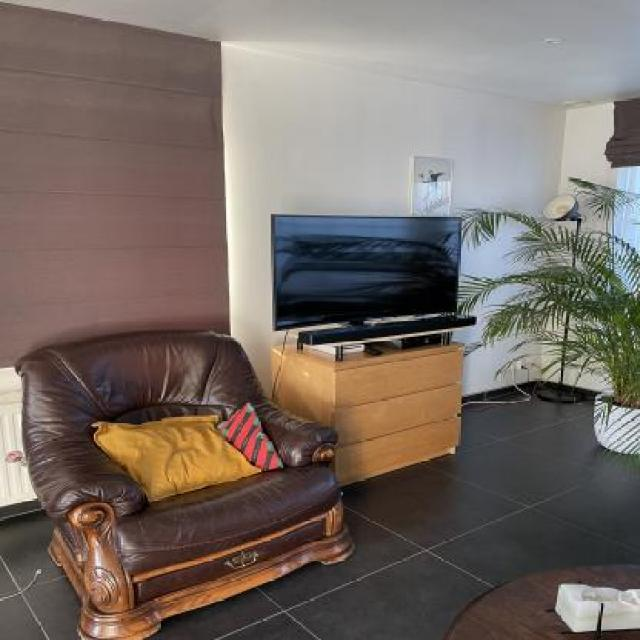Floor: (142, 386, 640, 640), (0, 508, 83, 640), (474, 391, 528, 402), (461, 402, 505, 410), (576, 396, 595, 404), (522, 388, 532, 395), (521, 396, 529, 400), (461, 404, 465, 406), (531, 388, 533, 390)
